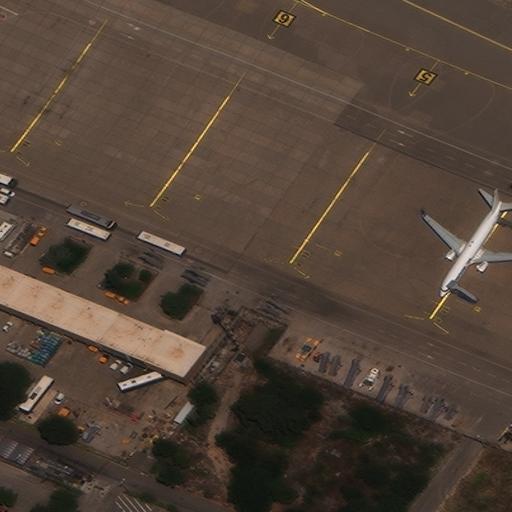Medium Civil Transport: (423, 187, 511, 297)
